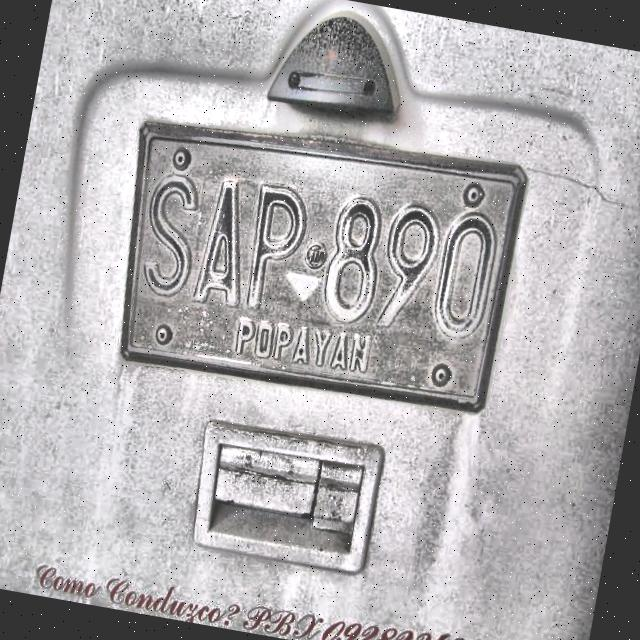plate: (127, 134, 517, 400)
